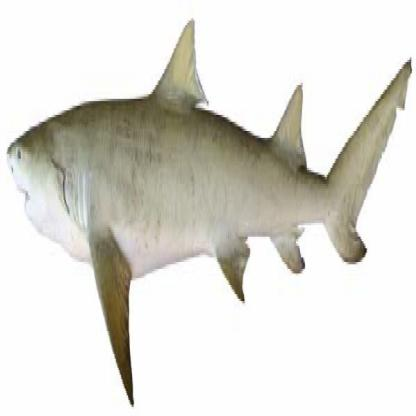shark: (6, 17, 414, 399)
